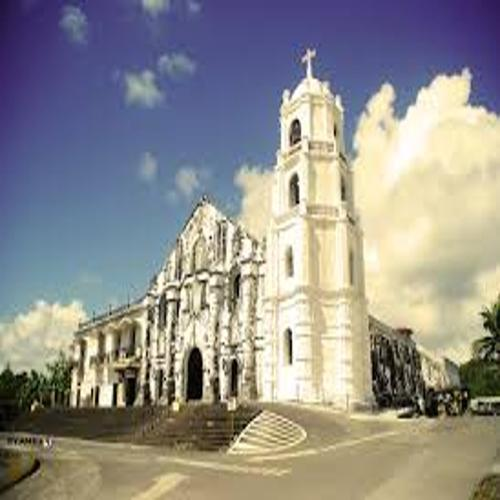Daraga Church: (138, 38, 378, 426)
